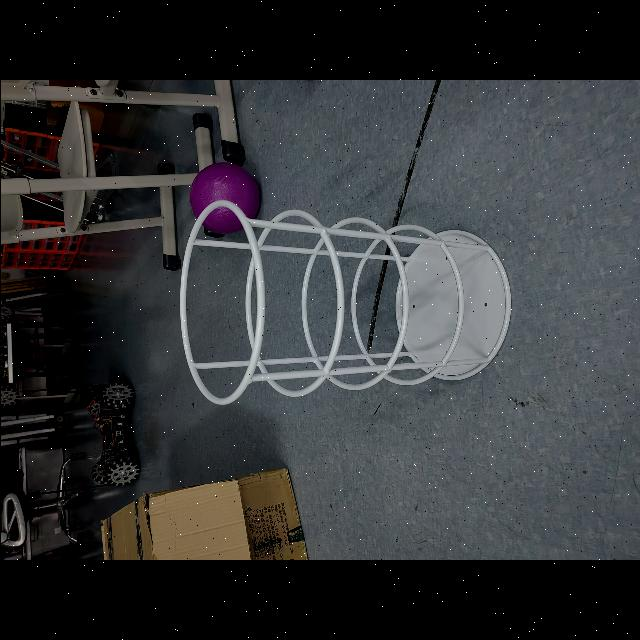S: (174, 196, 512, 412)
